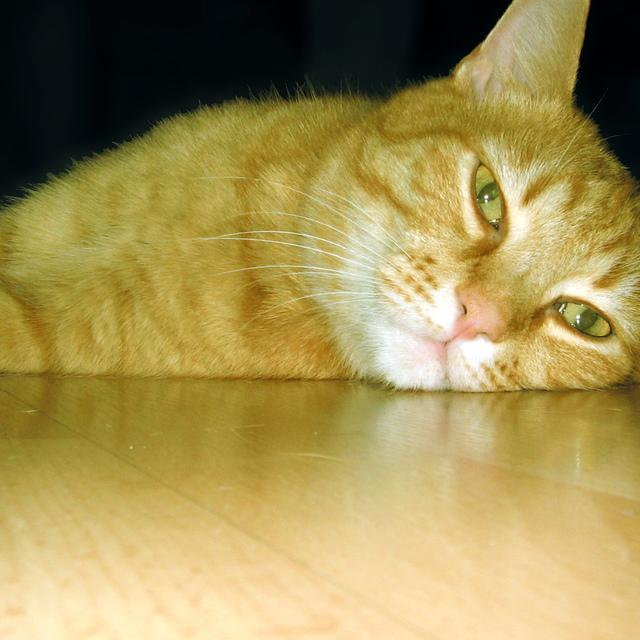animals: (451, 0, 640, 359)
